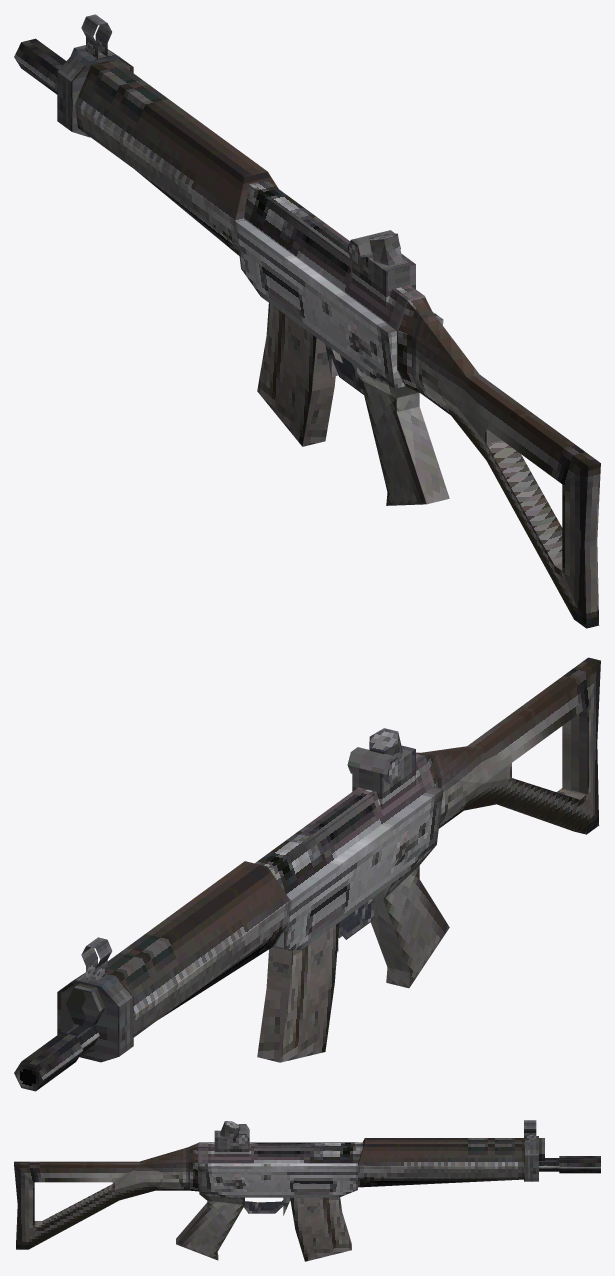
File: recovered_gun_sig_commando.glb
3 views of the same model, one above another, from view 1: azimuth 30°, elevation 25°; view 2: azimuth 150°, elevation 25°; view 3: azimuth 270°, elevation 25° (orthographic). The views are drawn at different scales.
Parts seen in each view (by area): view 1: Gun_54c3450b3959; view 2: Gun_54c3450b3959, Gun_0a7a76e0af90; view 3: Gun_54c3450b3959.
Part boxes in pixels (left/top/right/bottom): Gun_54c3450b3959: left=14, top=14, right=600, bottom=628; Gun_54c3450b3959: left=22, top=657, right=600, bottom=1090; Gun_0a7a76e0af90: left=14, top=1061, right=42, bottom=1091; Gun_54c3450b3959: left=14, top=1120, right=600, bottom=1261.
Size of the model in its own units: 0.0544 by 0.2229 by 0.8623.
2 materials, 2 textured.
